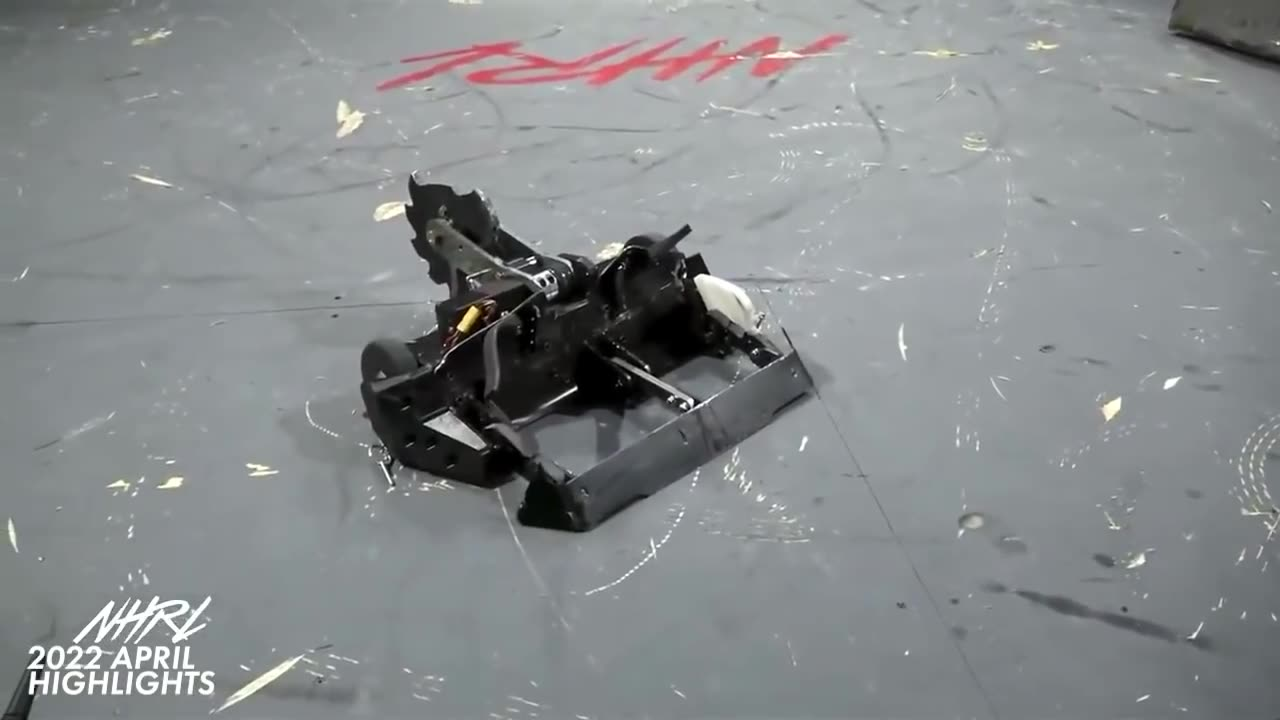combatbot: (359, 231, 811, 538)
housebot: (1168, 0, 1280, 77)
